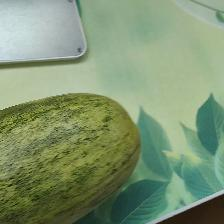gua: (25, 105, 131, 201)
